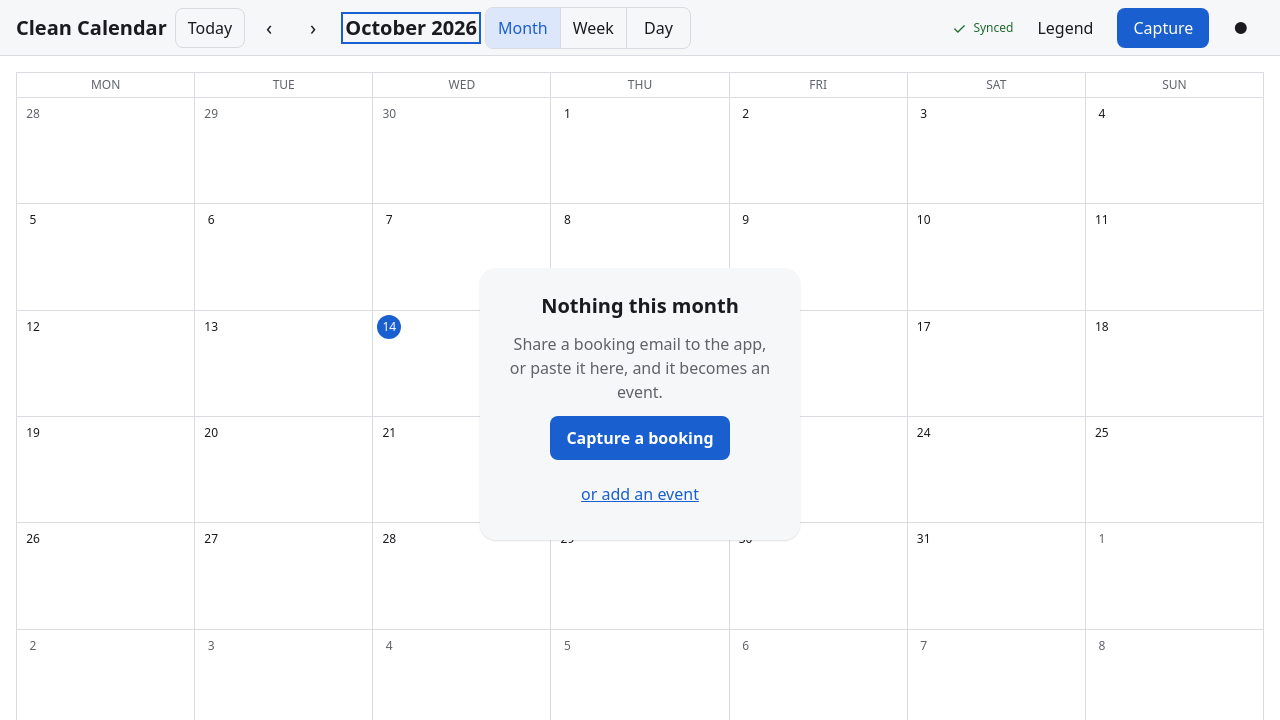
Test: the kind legend in the shell (CAL-008 AC-1, AC-2, AC-3, Block 4) › the top-bar Legend opens the one legend, right after itself, listing the eleven defaults in order, then Manage kinds
Expected: the heading "October 2026" is shown, [345, 16, 477, 40]
Step 1. Click the button "Legend" → (1066, 28), box [1022, 8, 1110, 48]
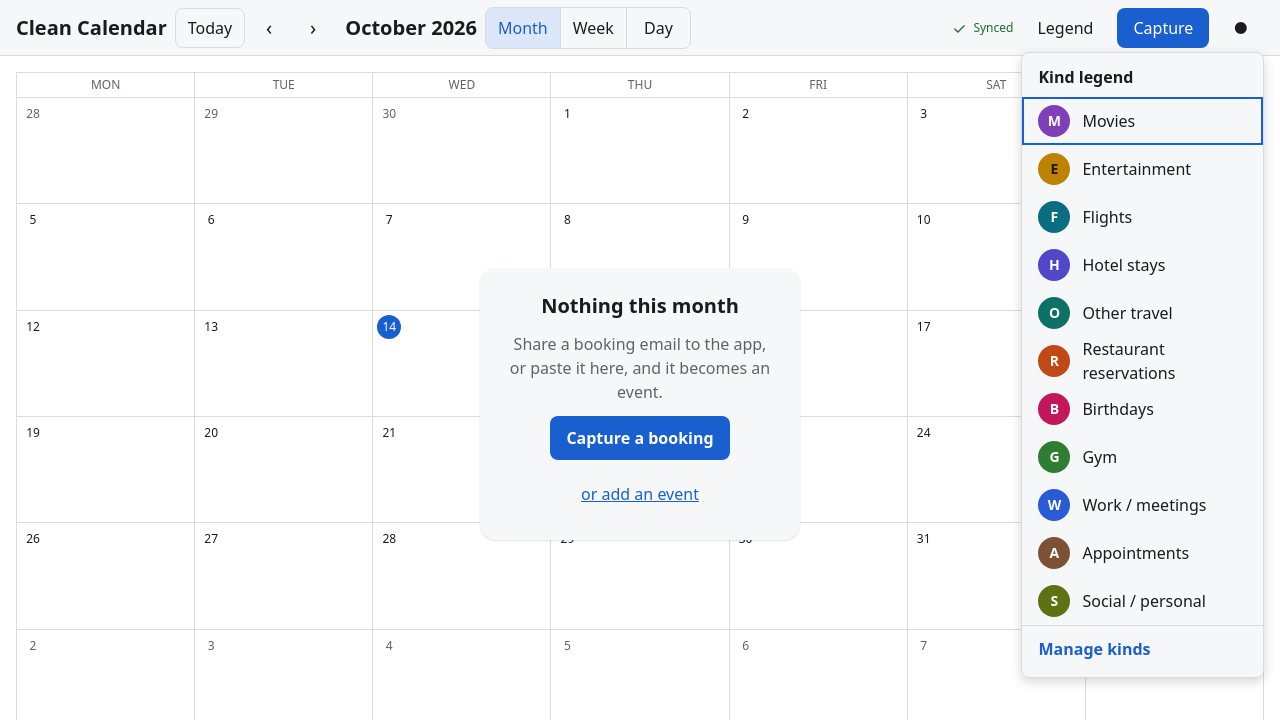
Now the number of dialogs "Kind legend" is 1, box [1022, 52, 1264, 678]
Now the link "M Movies" is shown, box [1038, 104, 1135, 136]
Now the number of list items is 11
